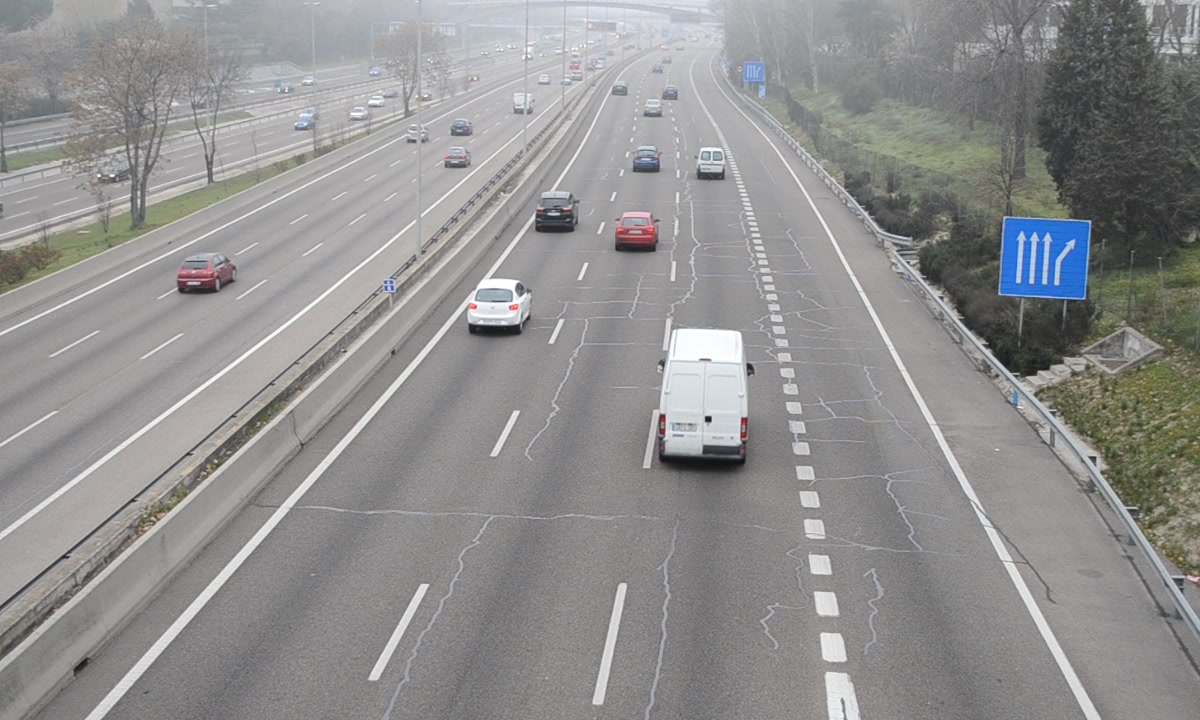car: (468, 278, 529, 327), (535, 190, 576, 230), (615, 211, 657, 249), (632, 145, 660, 173)
van: (659, 329, 750, 464), (696, 146, 728, 182)
